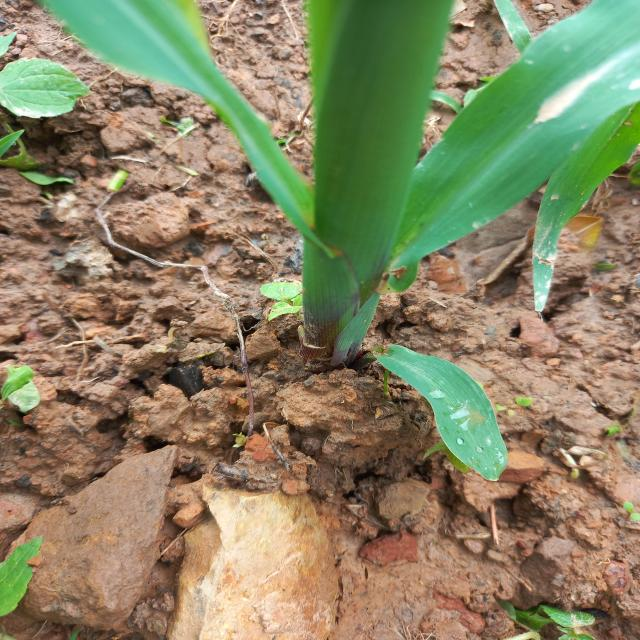maize: (81, 2, 640, 448)
weed: (0, 53, 83, 144)
